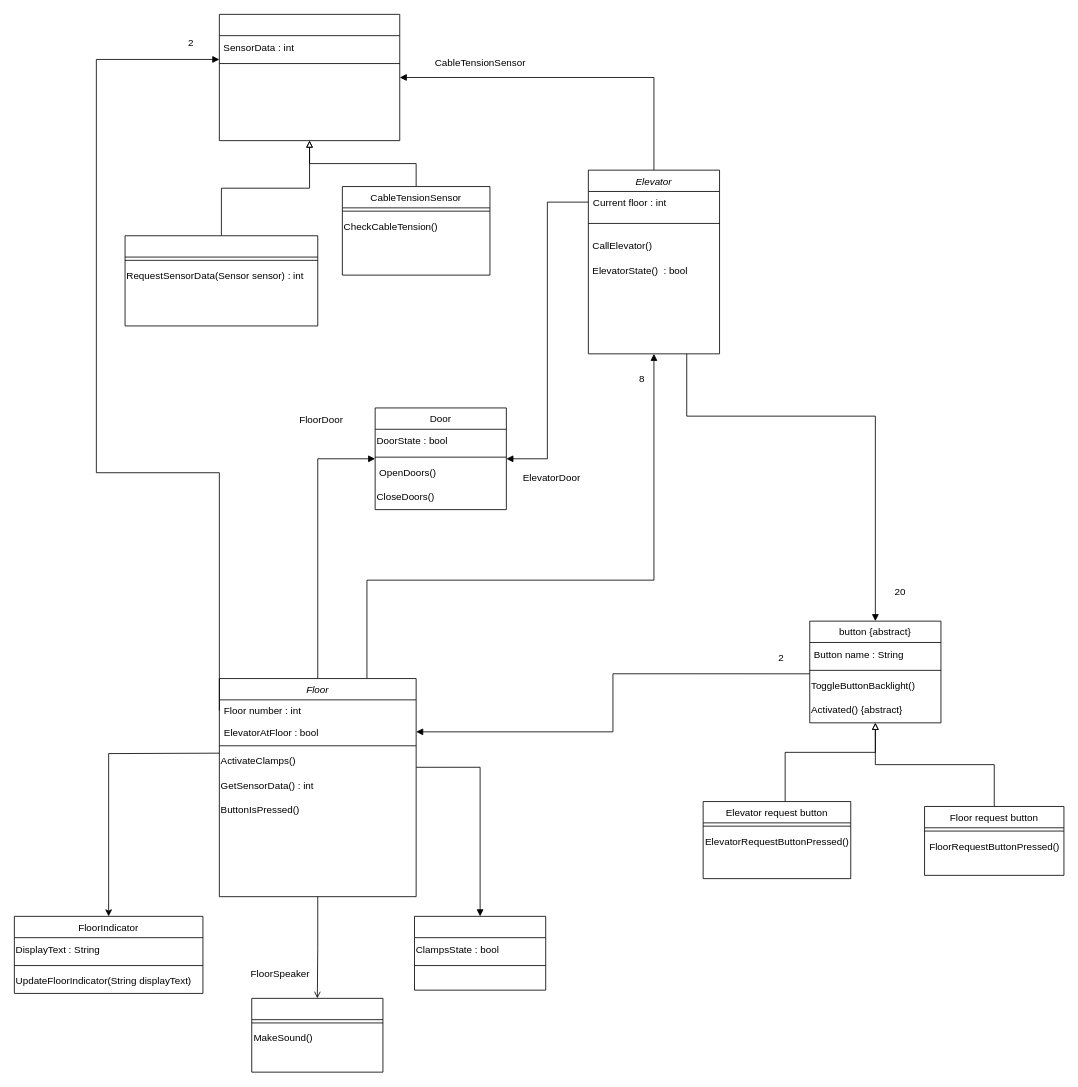
Some shapes in this 1078 by 1087 pixel diagram are drawn without their labels. Each missing label, with the box of its shape:
External locking clamps: (414, 916, 546, 990)
FloorSensor: (124, 235, 318, 326)
Sensor {abstract}: (219, 14, 400, 141)
Speaker: (251, 998, 383, 1072)
